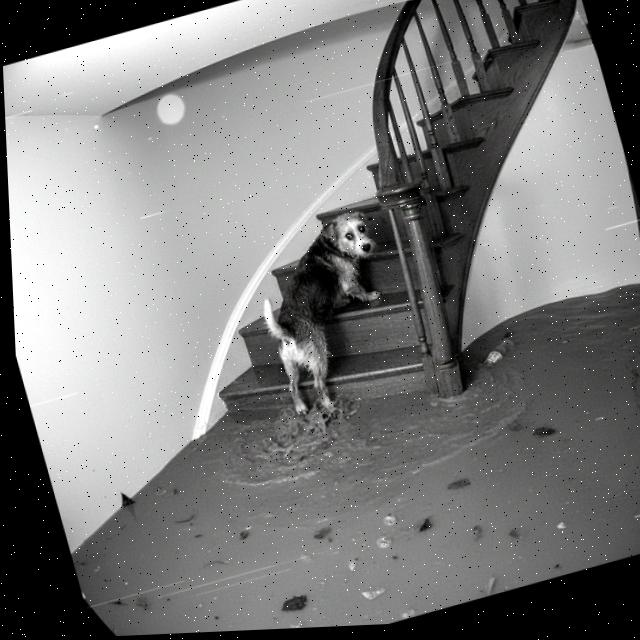dog: (222, 183, 427, 439)
